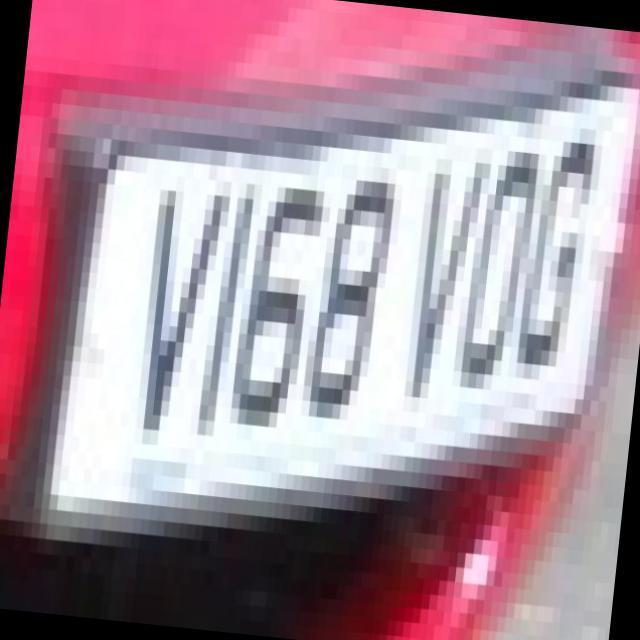License Plate: (34, 60, 640, 568)
